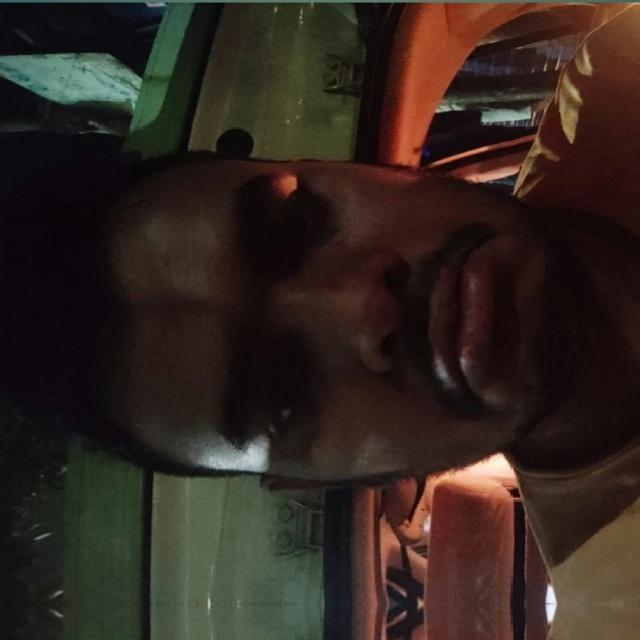Sad: (68, 145, 585, 505)
